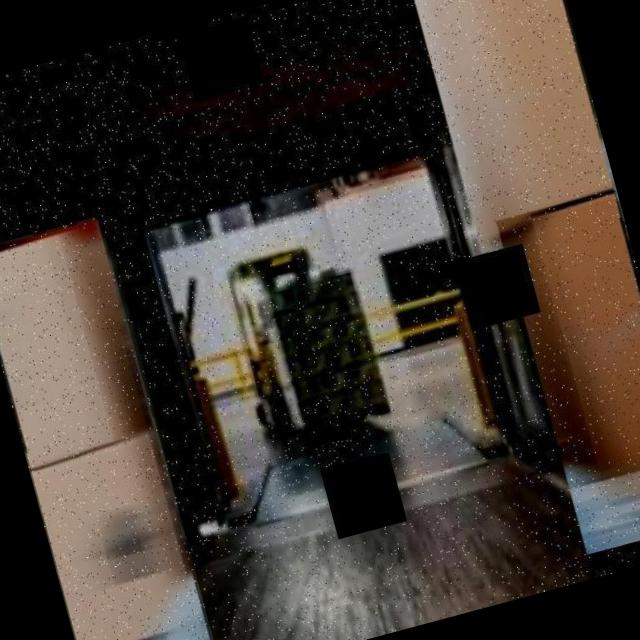box: (403, 0, 624, 258), (495, 188, 640, 560), (23, 415, 222, 640), (0, 215, 159, 476)
